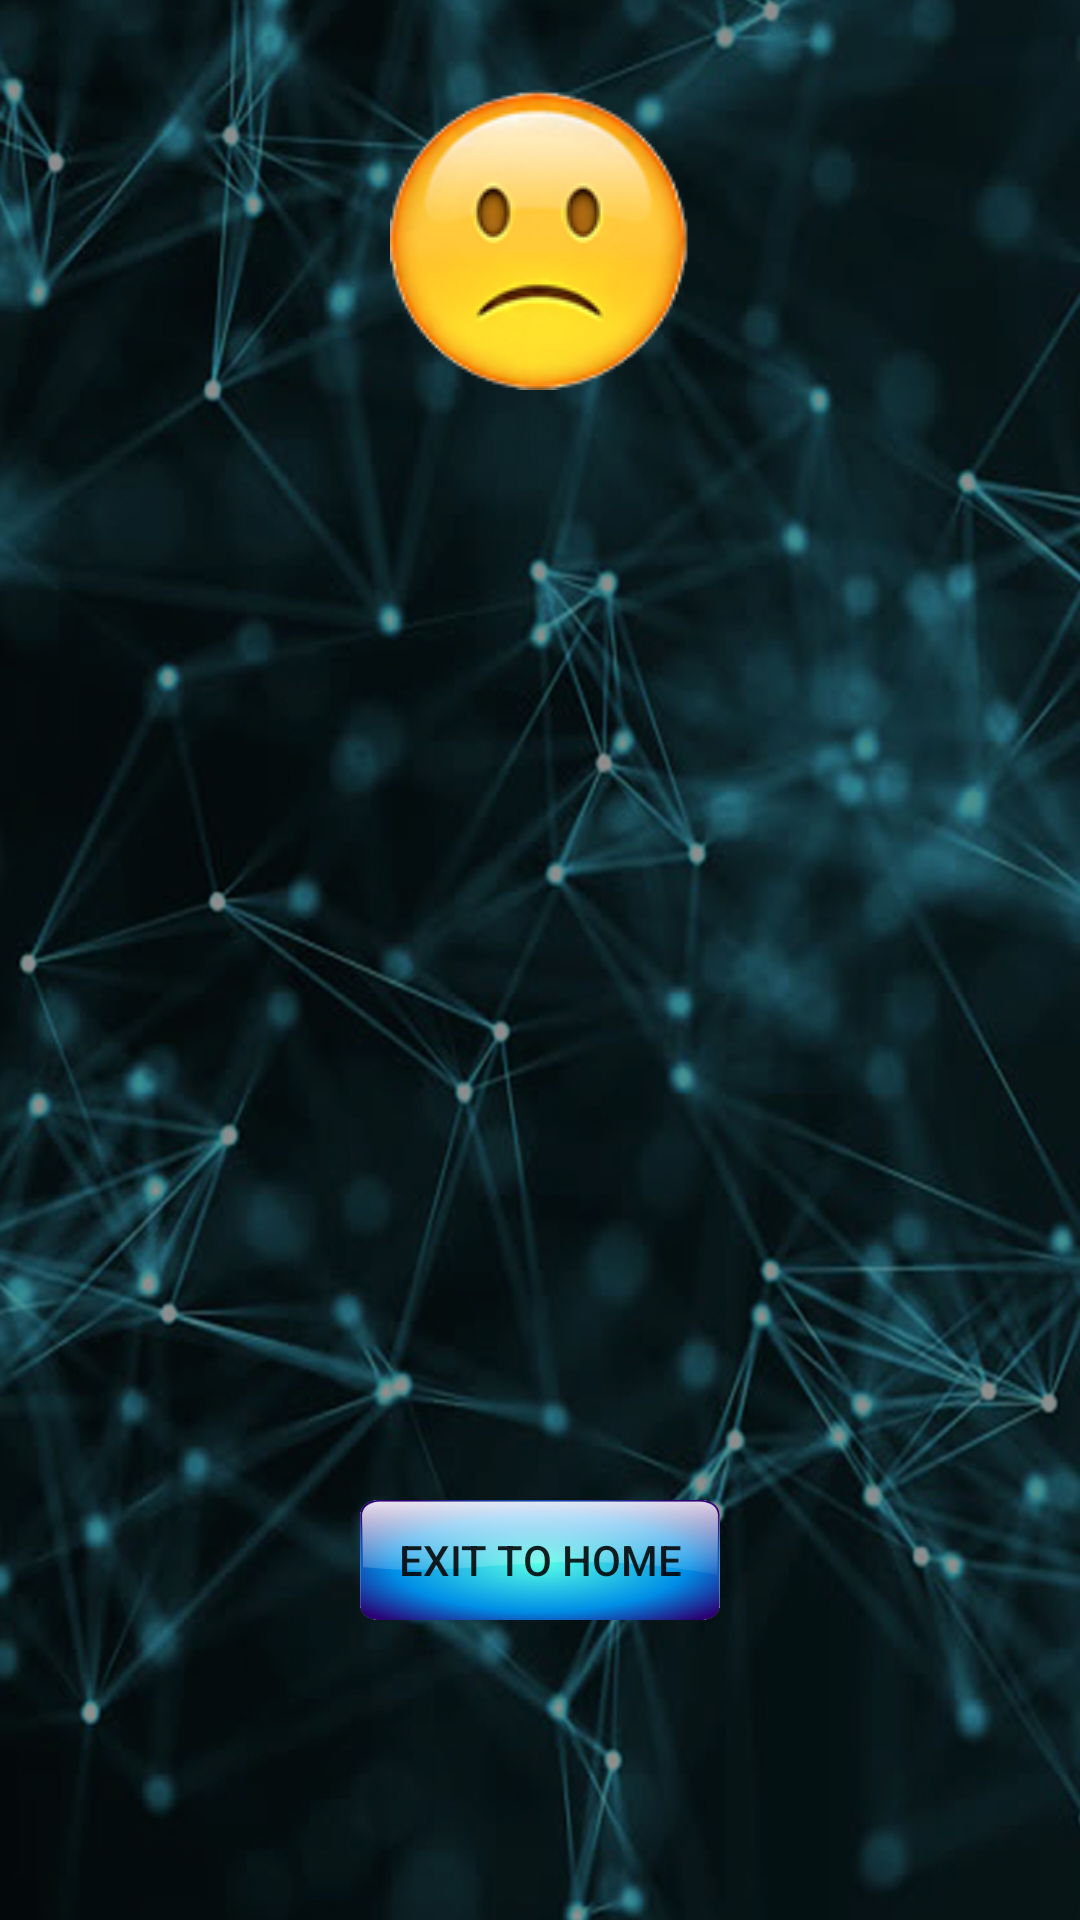

Icons on this 1080x1920 Android screen, each with the point to tap as [x,y]:
gloomy: [540,240]
